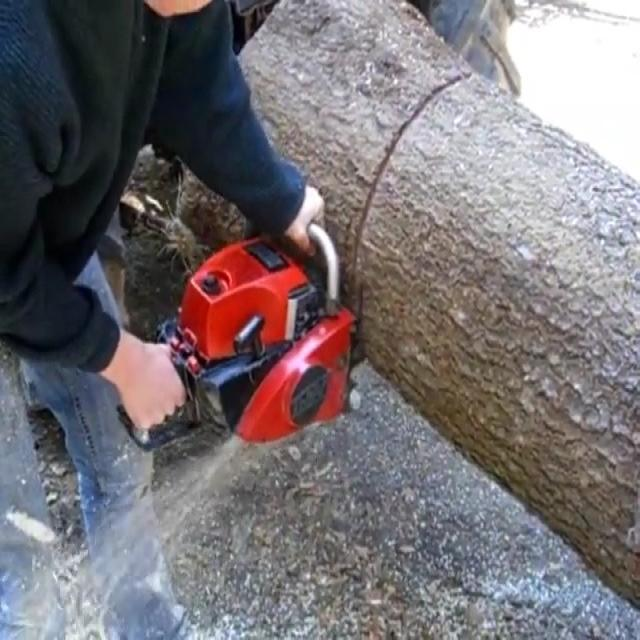Chainsaw: (100, 193, 386, 479)
